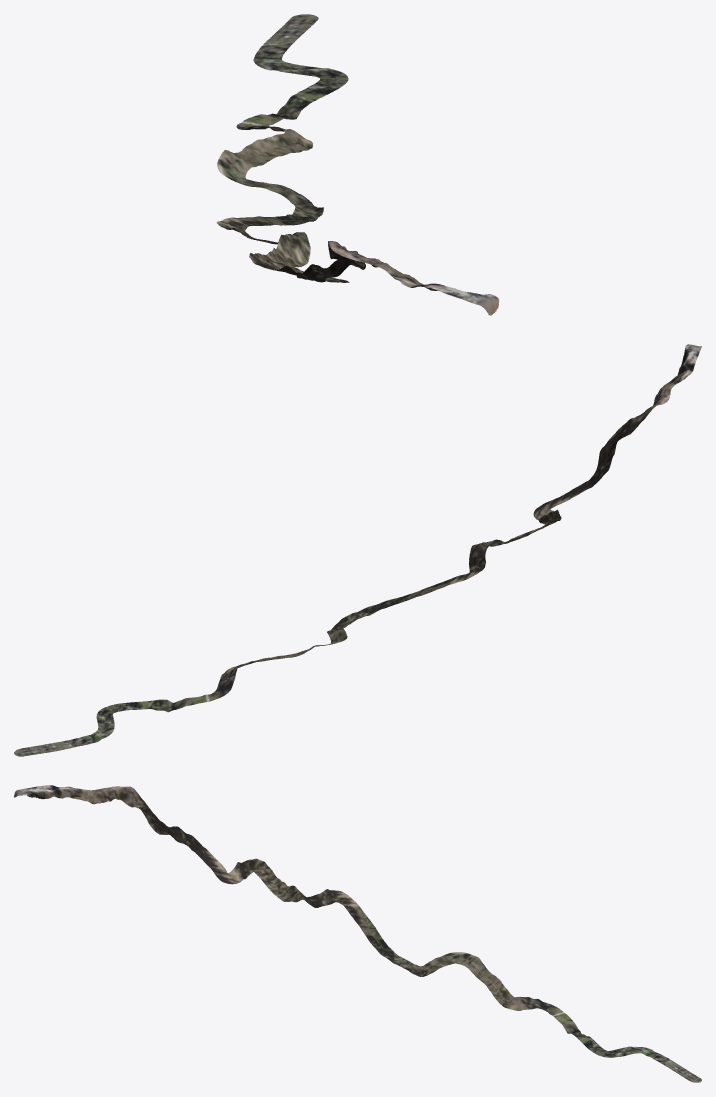
Rendered from corridor-v3-high.glb.
3 views of the same model, one above another, from view 1: azimuth 30°, elevation 25°; view 2: azimuth 150°, elevation 25°; view 3: azimuth 270°, elevation 25° (orthographic). The views are drawn at different scales.
Visible parts, largest first — view 1: V3 / ruts berms takeoffs / high; view 2: V3 / ruts berms takeoffs / high; view 3: V3 / ruts berms takeoffs / high.
Part boxes in pixels (left/top/right/bottom): V3 / ruts berms takeoffs / high: left=216, top=14, right=499, bottom=315; V3 / ruts berms takeoffs / high: left=14, top=344, right=701, bottom=756; V3 / ruts berms takeoffs / high: left=14, top=785, right=701, bottom=1082.
Bounding box in the file's own units: 648 × 373 × 1388.
Materials: 1 (1 with a texture image).
